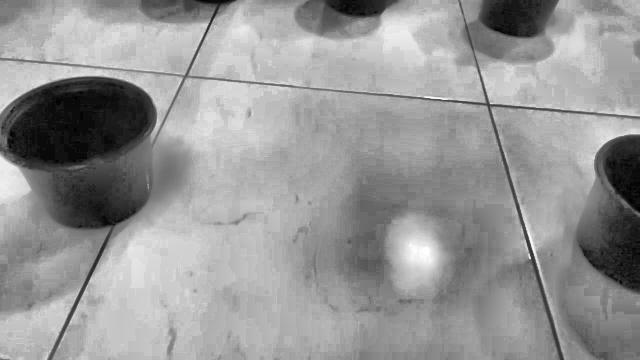pot: (0, 77, 157, 228), (576, 135, 640, 292)
